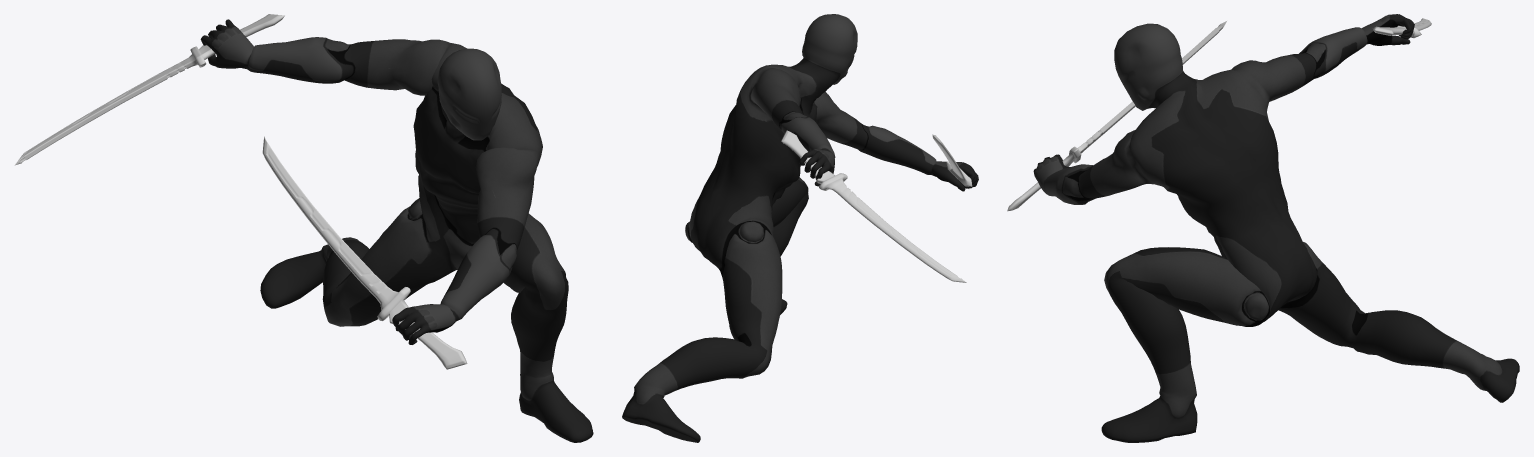
3 views of the same model, side by side, from view 1: azimuth 30°, elevation 25°; view 2: azimuth 150°, elevation 25°; view 3: azimuth 270°, elevation 25° (orthographic). The views are drawn at different scales.
Parts seen in each view (by area): view 1: Cyborg_Ninja_Killer, Sword_l, Sword_l001; view 2: Cyborg_Ninja_Killer, Sword_l001, Sword_l; view 3: Cyborg_Ninja_Killer, Sword_l.
Boxes of the visible parts, left/top/right/bottom form: Cyborg_Ninja_Killer: left=200, top=19, right=593, bottom=442; Sword_l: left=262, top=136, right=467, bottom=369; Sword_l001: left=14, top=14, right=284, bottom=165; Cyborg_Ninja_Killer: left=622, top=14, right=978, bottom=442; Sword_l001: left=781, top=130, right=966, bottom=282; Sword_l: left=932, top=134, right=972, bottom=188; Cyborg_Ninja_Killer: left=1033, top=14, right=1519, bottom=442; Sword_l: left=1007, top=21, right=1226, bottom=211.
Bounding box in the file's own units: 142 × 124 × 157.
